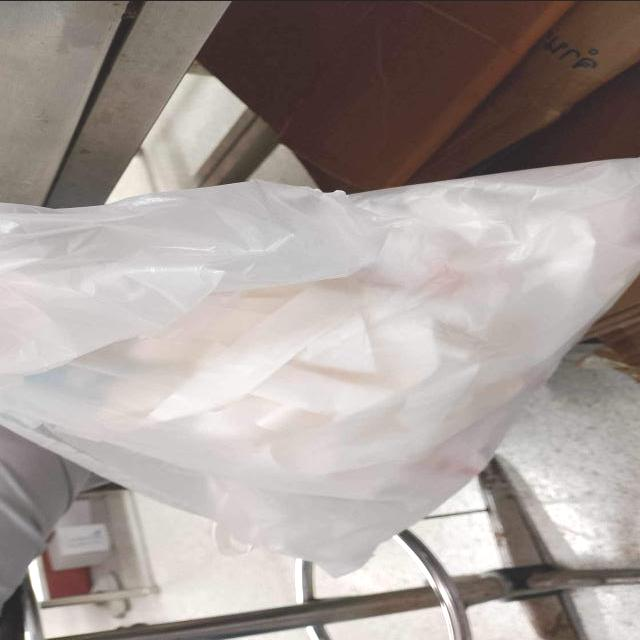General: (15, 488, 637, 638)
Infectious: (0, 153, 638, 577)
